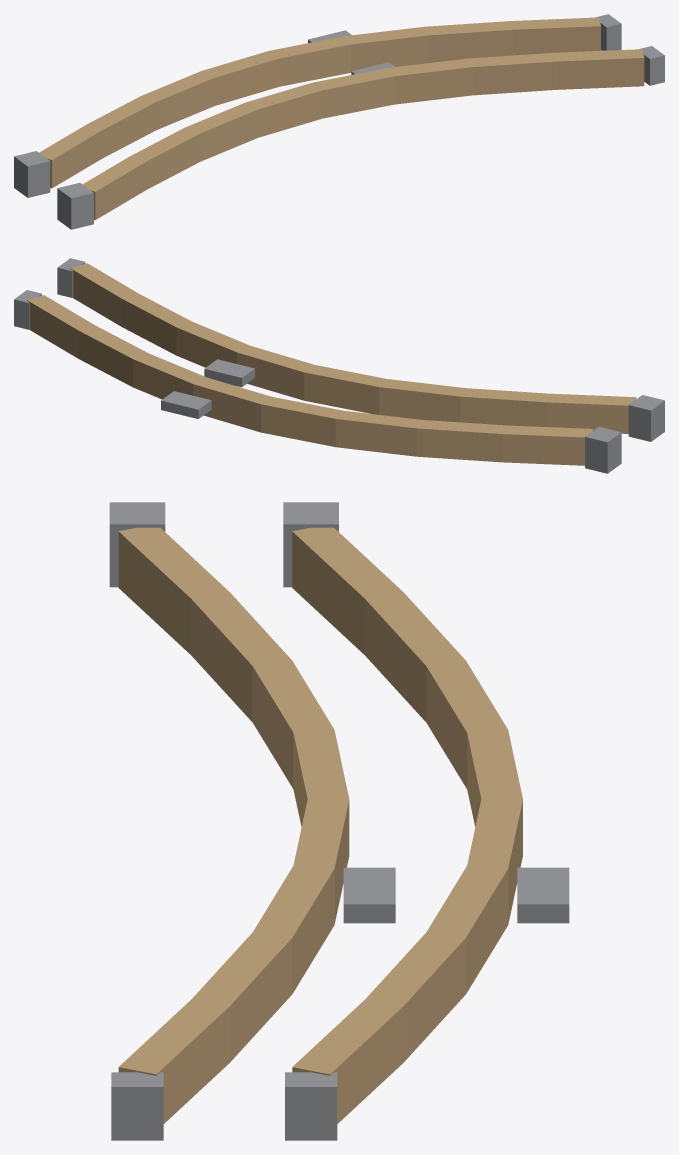
Rendered from prop-hames-pair.fbx.
3 views of the same model, one above another, from view 1: azimuth 30°, elevation 25°; view 2: azimuth 150°, elevation 25°; view 3: azimuth 270°, elevation 25° (orthographic). The views are drawn at different scales.
Visible parts, largest first — view 1: prop-hames-pair; view 2: prop-hames-pair; view 3: prop-hames-pair.
Part boxes in pixels (x1,y1,x2,y2): prop-hames-pair: (14,14,664,229); prop-hames-pair: (14,258,664,473); prop-hames-pair: (109,502,569,1140).
Size of the model in its own units: 79 by 4 by 26.46.
